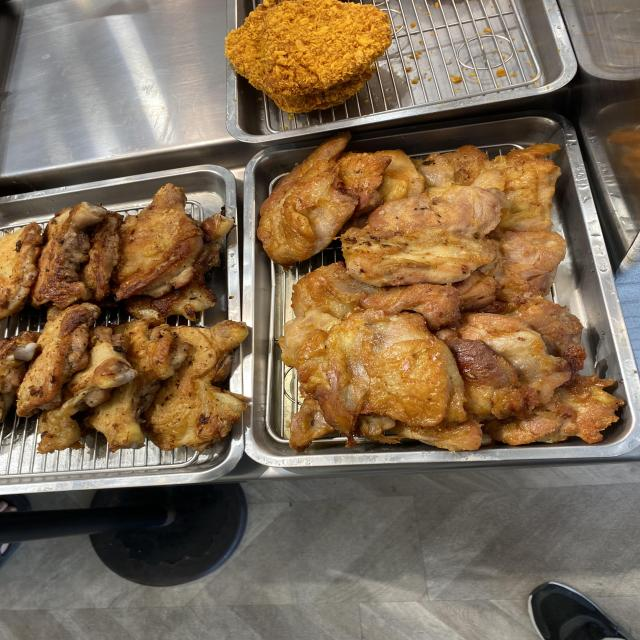Chicken Leg Steak: (356, 188, 542, 413), (53, 243, 208, 413)
